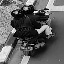mobil: (4, 4, 54, 57)
